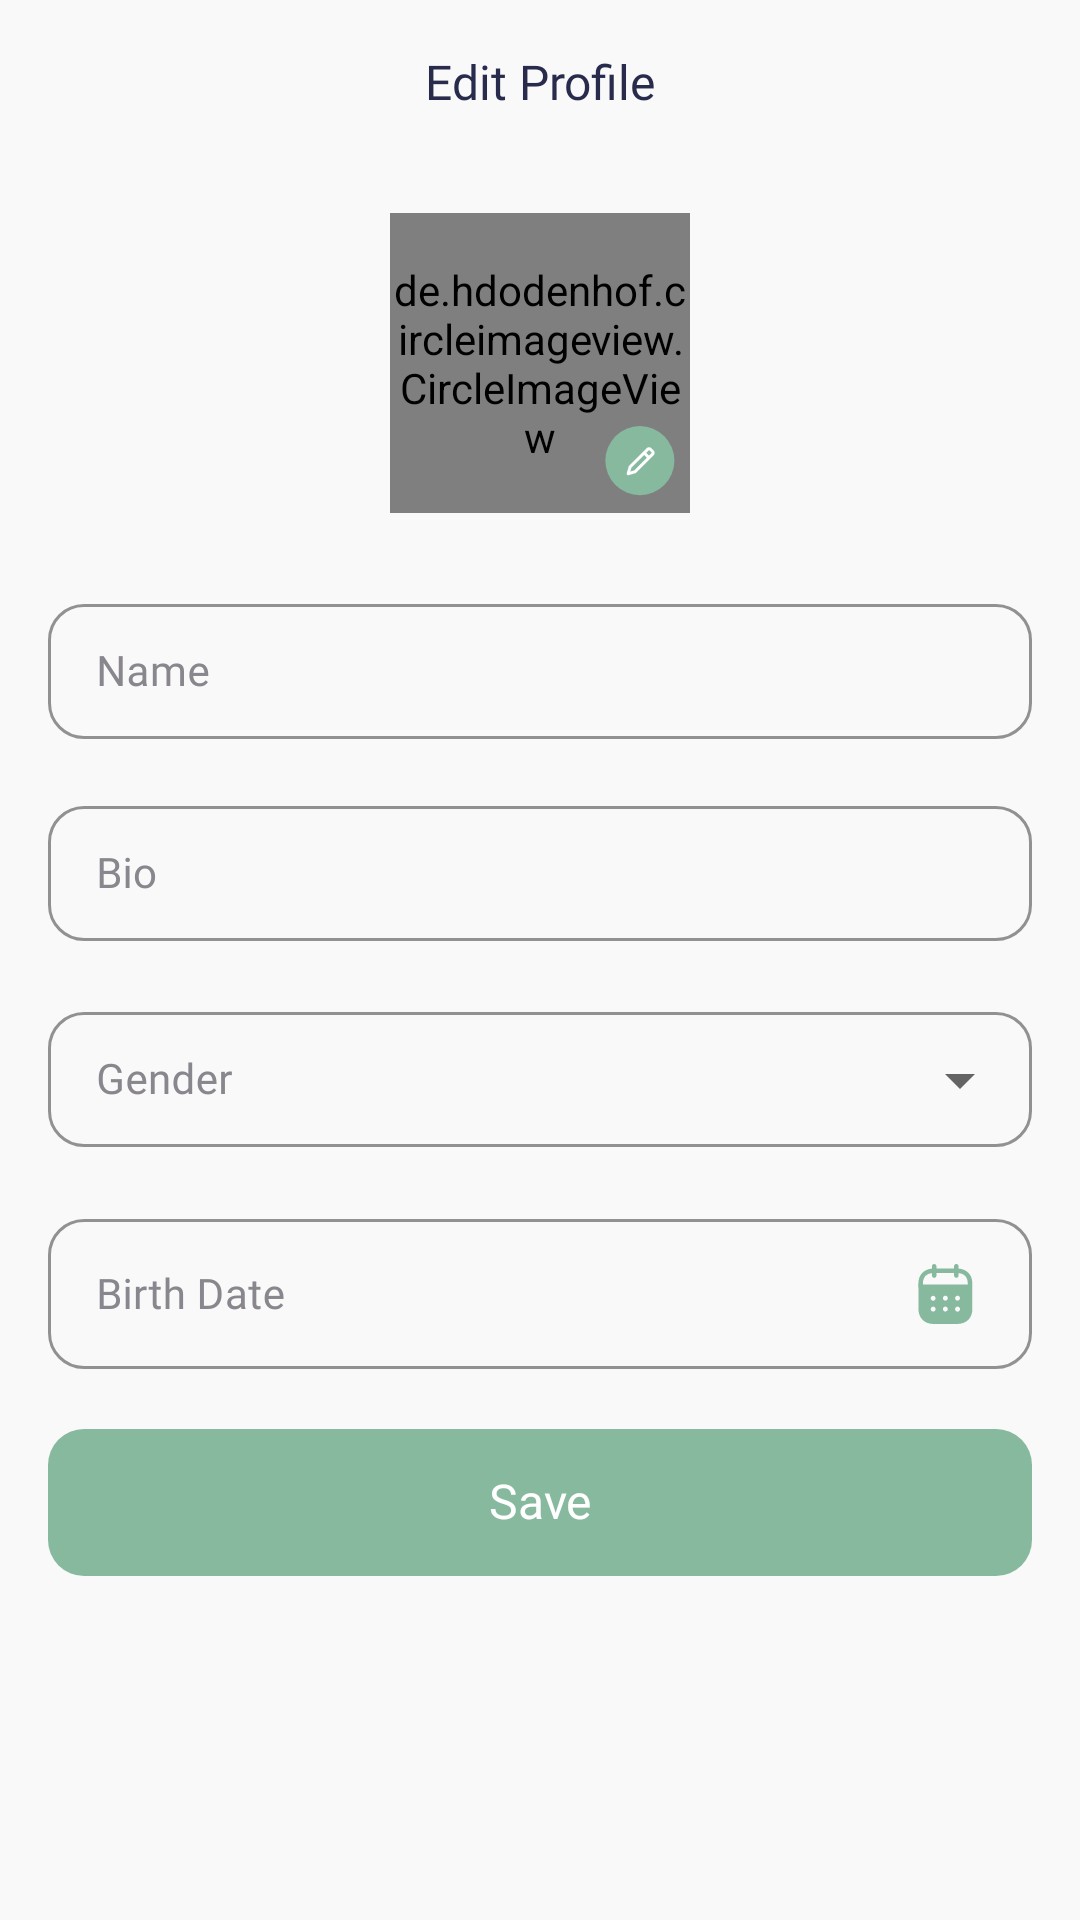

Named icons in this screenshot (1080px x 1920px) and their centers, (x=x, y=y):
edit pencil: (x=640, y=460)
